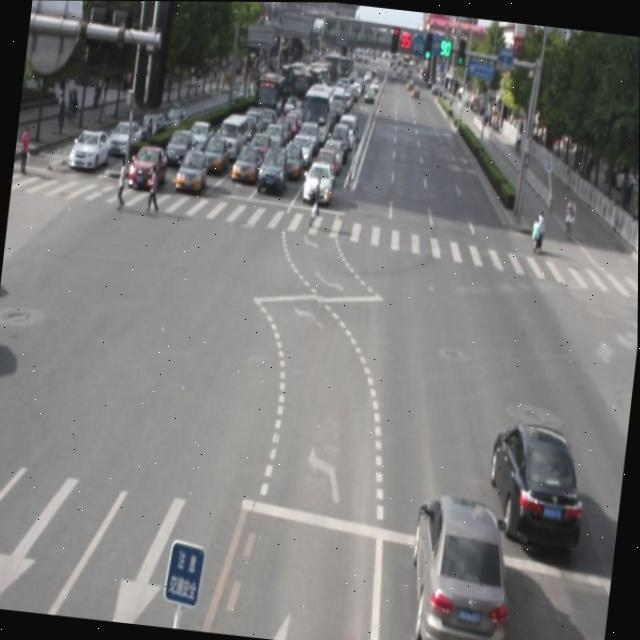car: (400, 489, 518, 640), (483, 419, 591, 545)
